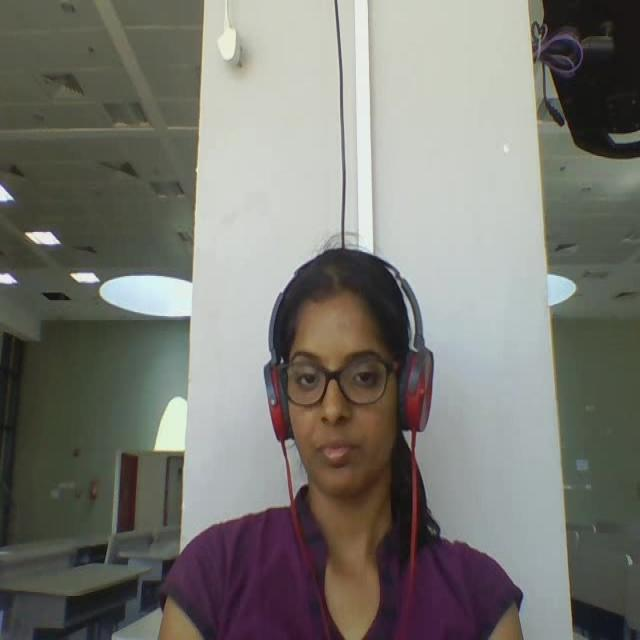Engaged: (246, 231, 453, 503)
